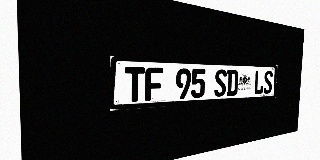5: (191, 69, 206, 98)
9: (176, 68, 191, 99)
D: (226, 70, 238, 96)
F: (145, 67, 163, 101)
L: (254, 70, 264, 94)
S: (214, 69, 227, 97), (263, 71, 273, 94)
T: (125, 67, 145, 102)
